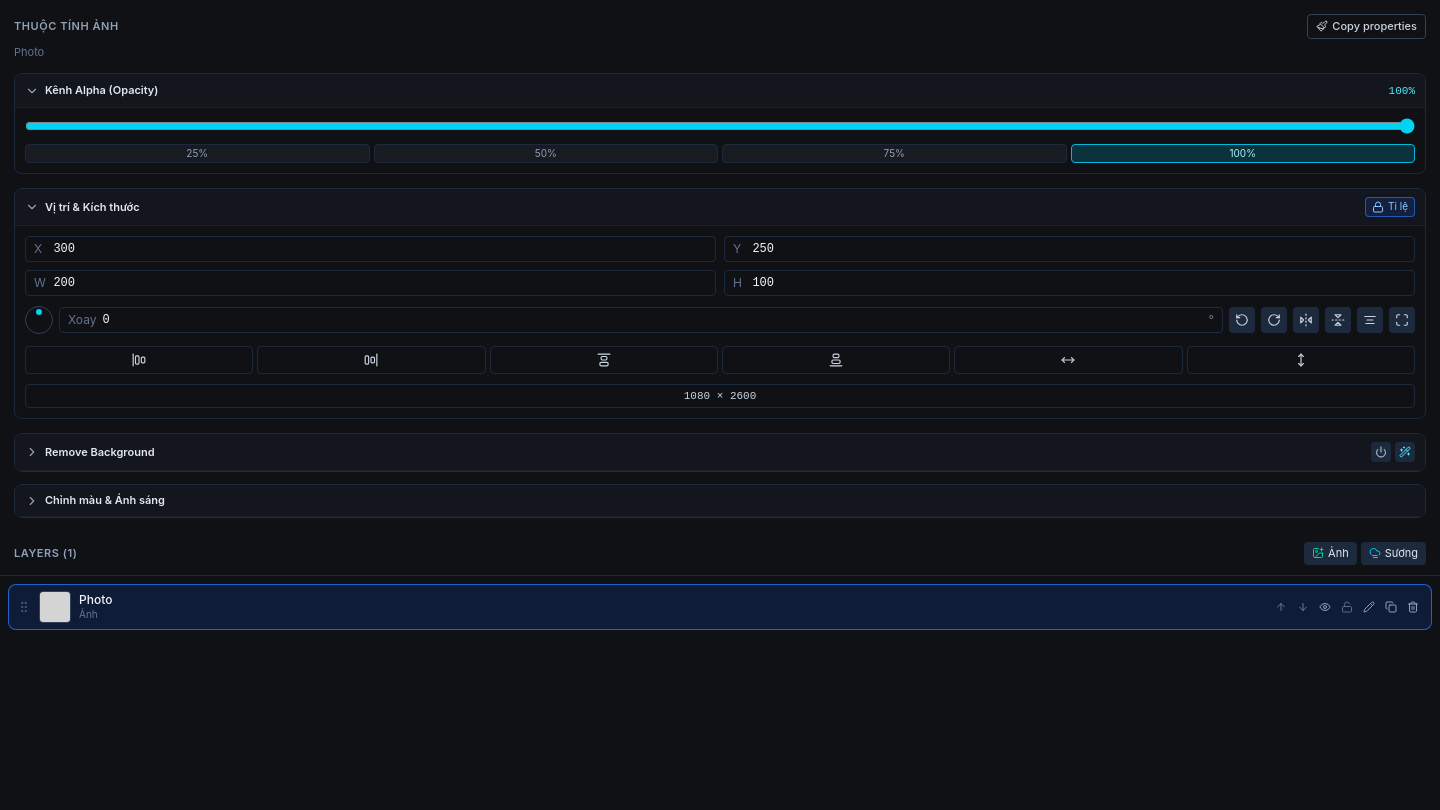
Test case: Editor UI Components › Magic Eraser toggles tool and auto-opens Remove Background section; LayerPanel has fixed Copy and Rename
Click the button named "Mở Magic Background Eraser" at {"x": 1405, "y": 452}, box top-left (1395, 442), bottom-right (1415, 462)
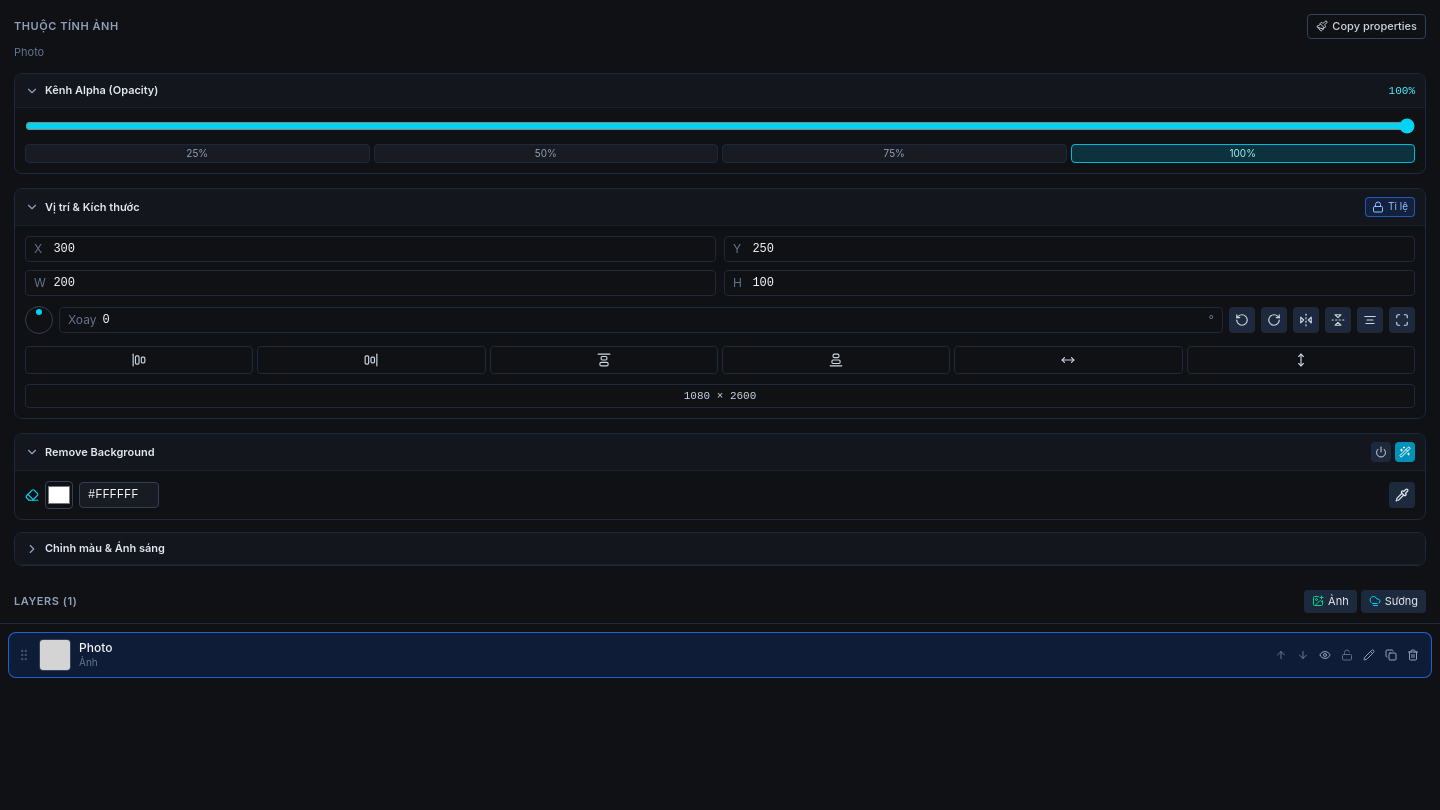
# Toggle collapsible section by clicking its title
Click the button "Chỉnh màu & Ánh sáng" at {"x": 105, "y": 548}, box top-left (25, 541), bottom-right (1415, 556)
(page scrolled)
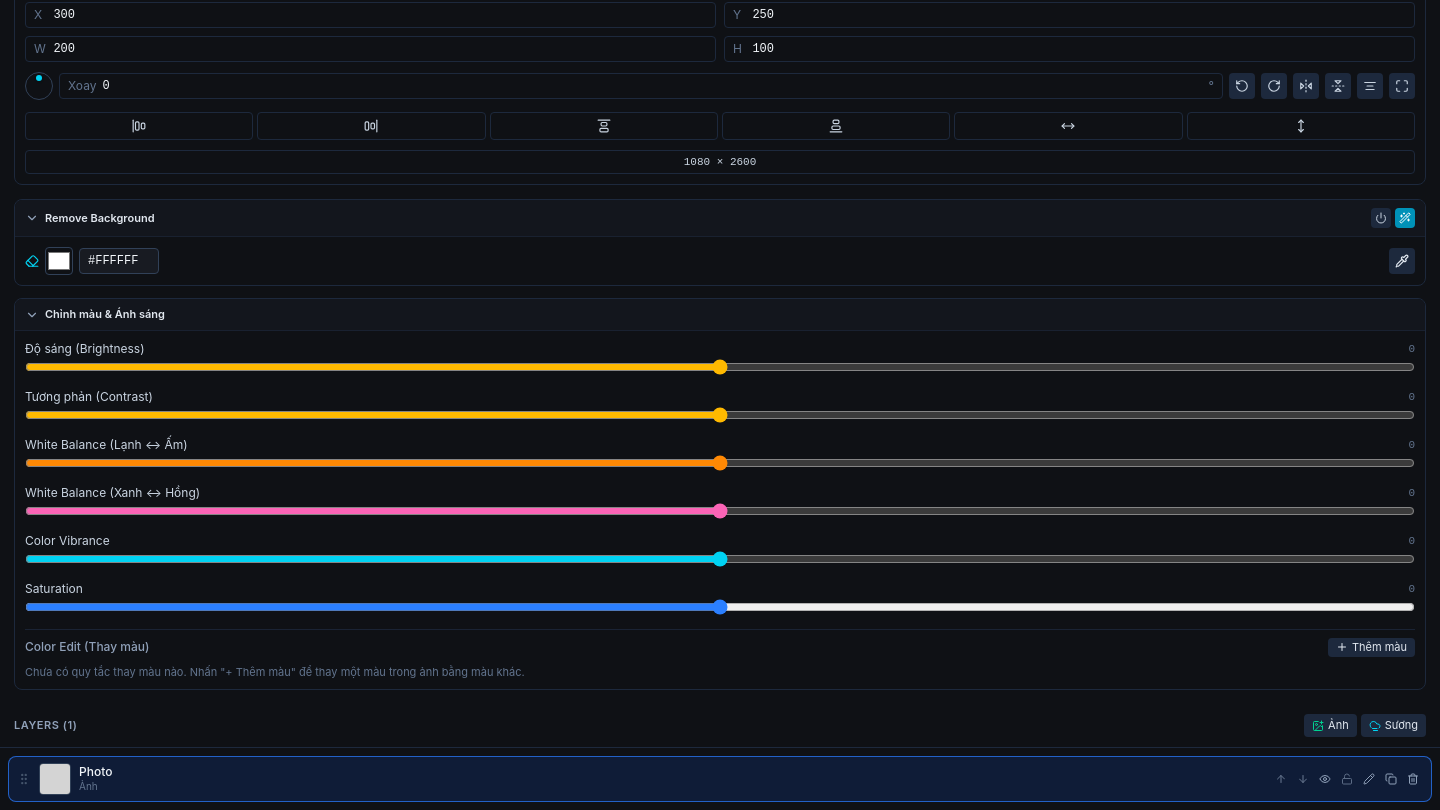
Expected: the button named "Nhân bản Photo" is shown, top-left (1381, 769), bottom-right (1401, 789)
Click the button named "Đổi tên Photo" at {"x": 1369, "y": 779}, box top-left (1359, 769), bottom-right (1379, 789)
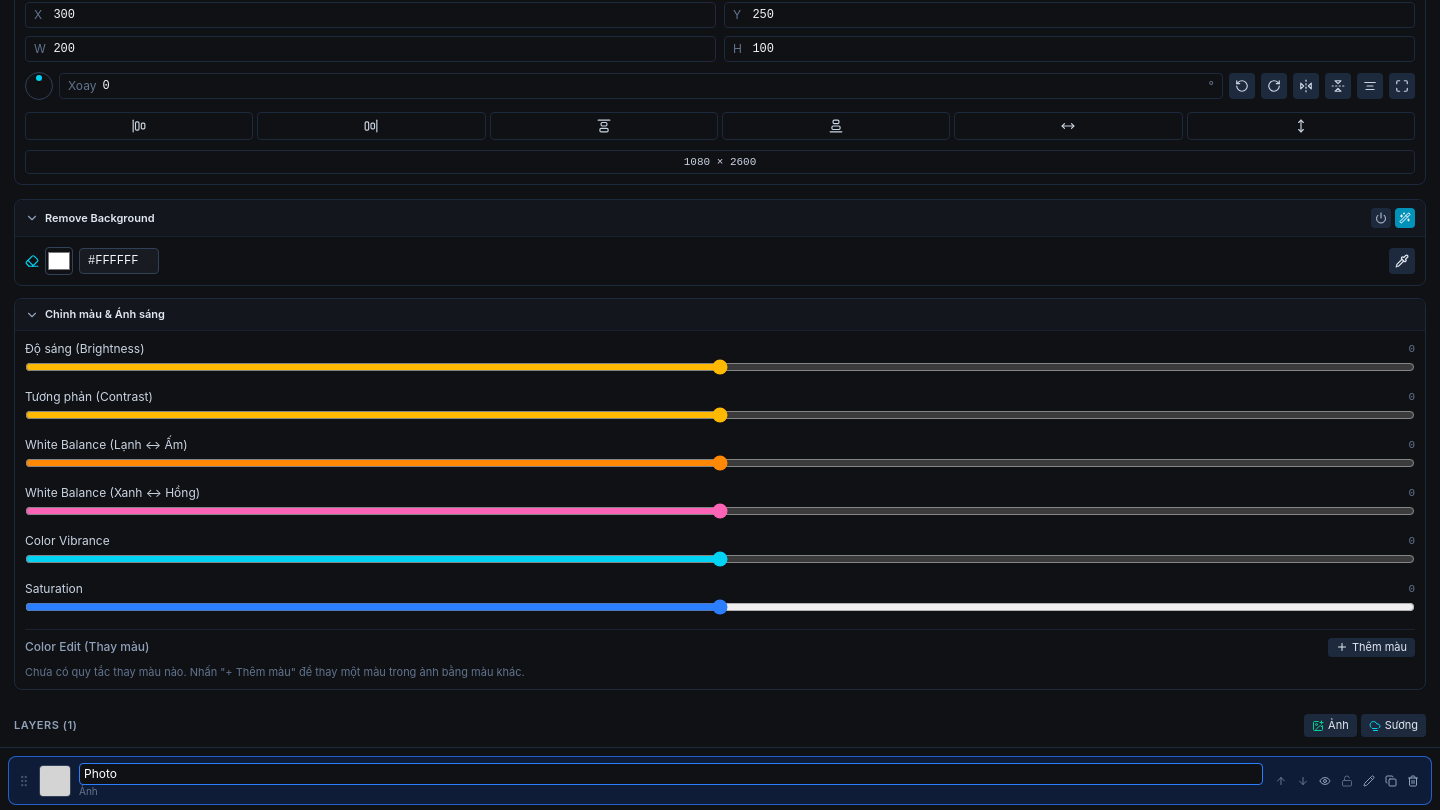
Replace the text in the field showing "Photo" with "Hero Renamed" at {"x": 671, "y": 774}, box top-left (79, 763), bottom-right (1263, 785)
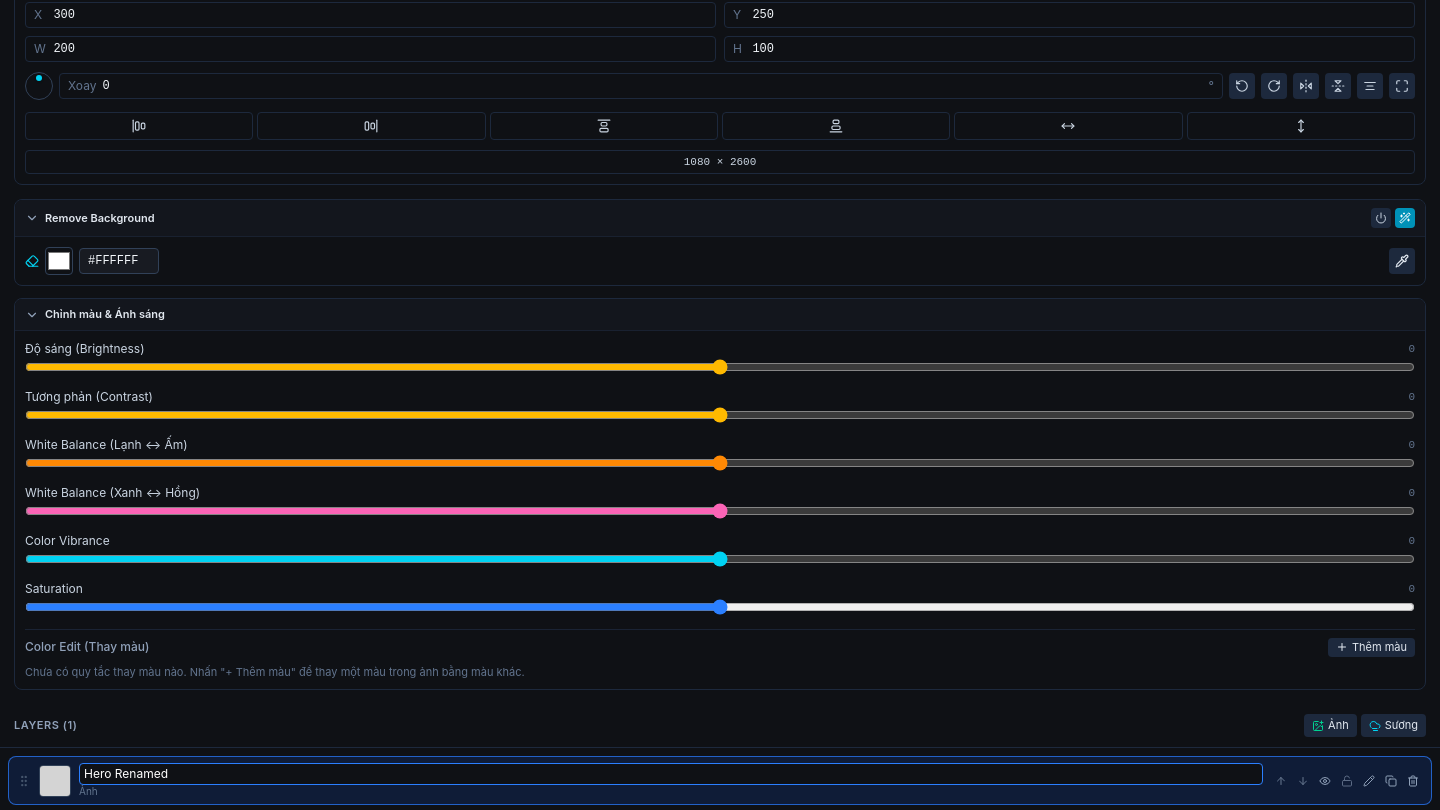
Press Enter in the field showing "Photo", box top-left (79, 763), bottom-right (1263, 785)
(page scrolled)
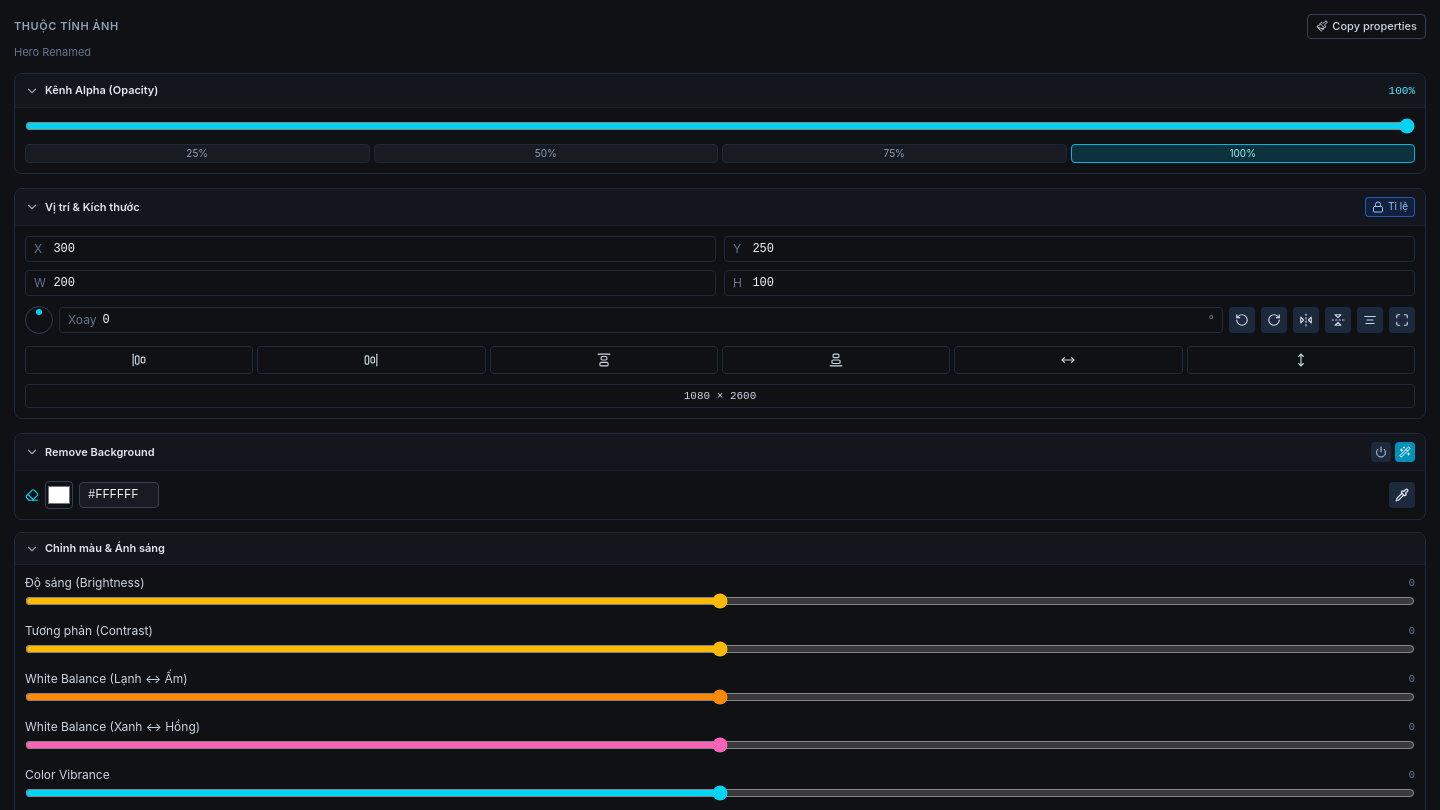
Result: the text "Hero Renamed" is shown at top-left (14, 45), bottom-right (91, 59)
